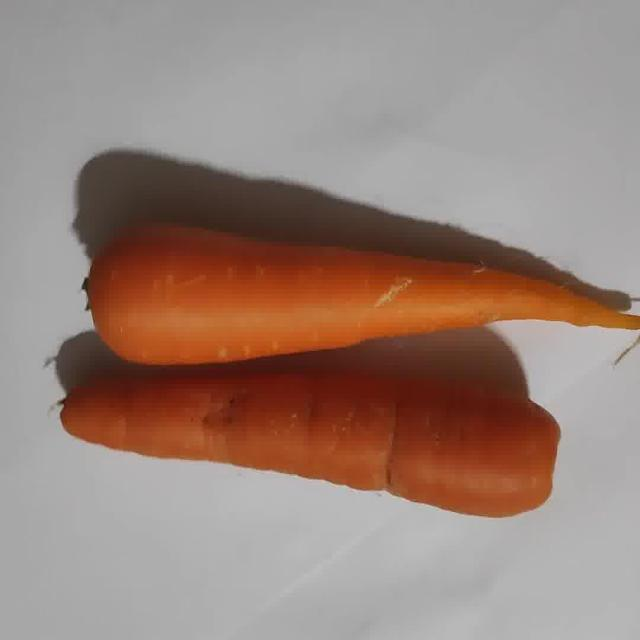Carrot: (60, 367, 559, 516), (91, 229, 639, 364)
